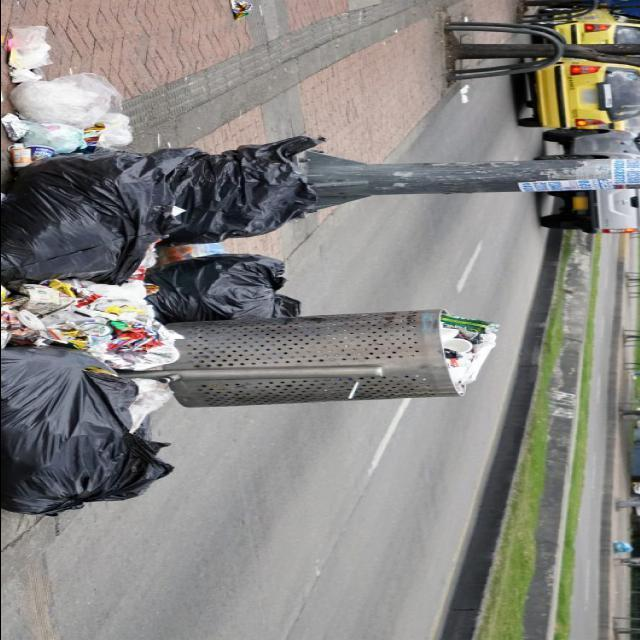Trashbag: (0, 316, 158, 526), (15, 118, 153, 280), (166, 103, 298, 239), (151, 231, 317, 337)
